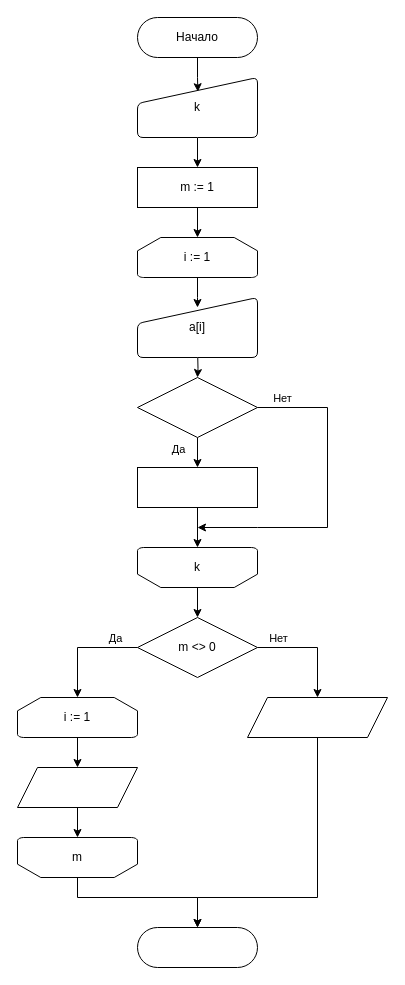
This 405x985 diagram has some shape labels left out. The shapes that lost their labels are listed below. From the top down, each one's box as (x1, y1, x2, y2) in pixels, then its label:
(136, 376, 258, 438): a[i] mod 2 = 0
(136, 466, 258, 508): m := m + 1 b[m] := a[i]
(246, 696, 388, 738): "Нет четных чисел"
(16, 766, 138, 808): b[i]
(136, 926, 258, 968): Конец
